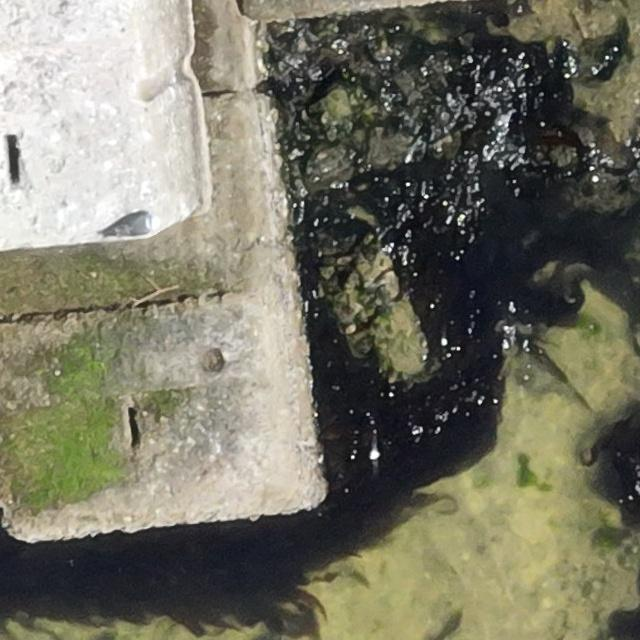umineko: (110, 213, 160, 239)
